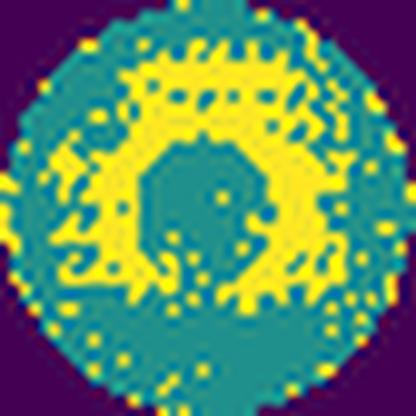Donut: (52, 40, 354, 318)
